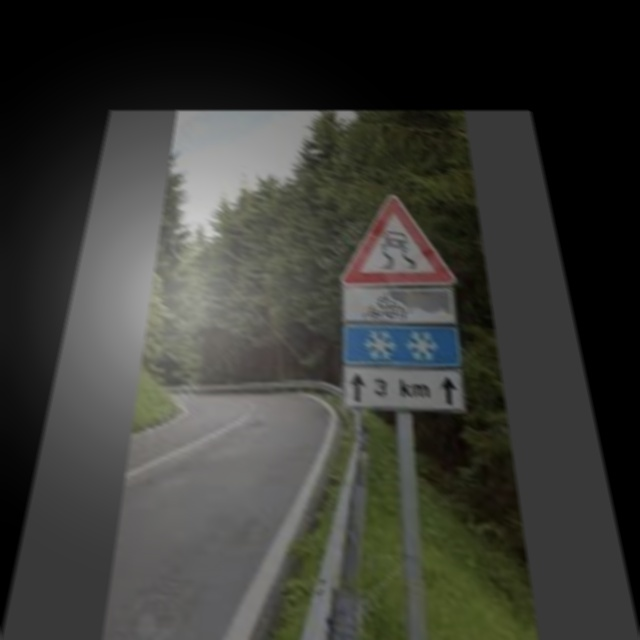Slippery_Road: (343, 193, 456, 283)
